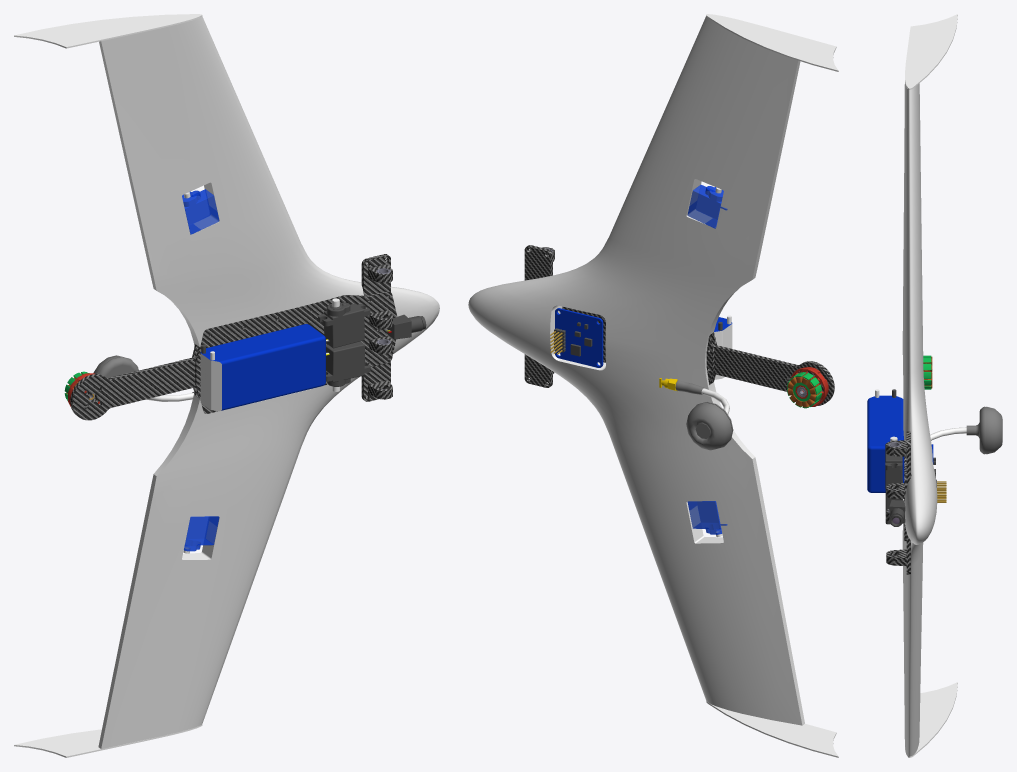
The model's file is MiniHawkBase.obj.
3 renders of one model, left to right at view 1: azimuth 30°, elevation 25°; view 2: azimuth 150°, elevation 25°; view 3: azimuth 270°, elevation 25°, orthographic. The views are drawn at different scales.
Visible parts, largest first — view 1: EPP, Solid1:9, CF-Deck, ABS-Stock, CF-TailPiece, CF-Cassette, Solid1:1, Solid1, Solid1:7, Solid1:6; view 2: EPP, ABS-Stock, CF-TailPiece, FR-4, Dome, CF-Cassette, Base, Solid1:7, Solid1:6, CF-Deck; view 3: EPP, ABS-Stock, Solid1:9, CF-Cassette, Dome, Solid1:1, Solid1:8, Base.
Part boxes in pixels (x1,y1,x2,y2): EPP: (98, 16, 439, 748); Solid1:9: (200, 324, 325, 411); CF-Deck: (192, 291, 397, 413); ABS-Stock: (14, 14, 202, 757); CF-TailPiece: (70, 356, 200, 420); CF-Cassette: (361, 254, 392, 401); Solid1:1: (318, 298, 370, 348); Solid1: (326, 341, 370, 391); Solid1:7: (182, 189, 219, 234); Solid1:6: (183, 516, 219, 553); EPP: (468, 16, 804, 725); ABS-Stock: (706, 14, 838, 757); CF-TailPiece: (709, 344, 834, 405); FR-4: (554, 308, 603, 367); Dome: (686, 402, 733, 450); CF-Cassette: (524, 245, 554, 387); Base: (786, 367, 828, 408); Solid1:7: (687, 184, 727, 228); Solid1:6: (687, 501, 727, 536); CF-Deck: (562, 306, 716, 384); EPP: (902, 82, 937, 756); ABS-Stock: (905, 14, 957, 757); Solid1:9: (867, 389, 904, 492); CF-Cassette: (886, 431, 910, 574); Dome: (966, 406, 1002, 454); Solid1:1: (885, 436, 902, 489); Solid1:8: (889, 500, 905, 526); Base: (923, 355, 932, 389).
Size of the model in its own units: 0.2986 by 0.502 by 0.0919.
Materials: 27 (1 with a texture image).
